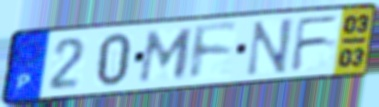0: (95, 31, 135, 88)
2: (46, 36, 90, 93)
F: (288, 12, 342, 74), (189, 21, 240, 84)
M: (136, 27, 197, 86)
N: (243, 16, 296, 79)
